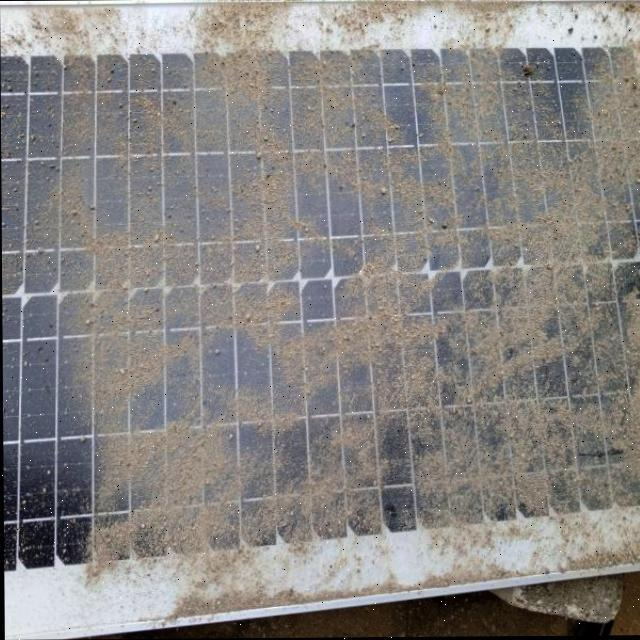Surface Contaminant: (0, 4, 640, 561)
